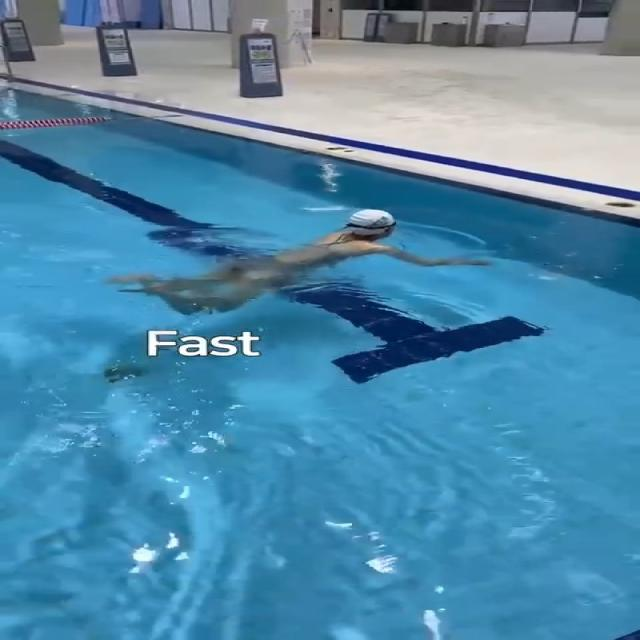Swimming: (100, 204, 508, 314)
